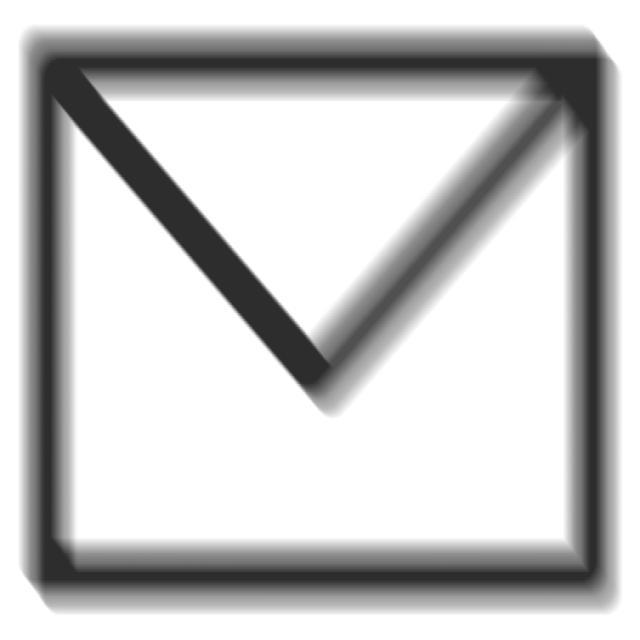letter: (10, 20, 628, 625)
